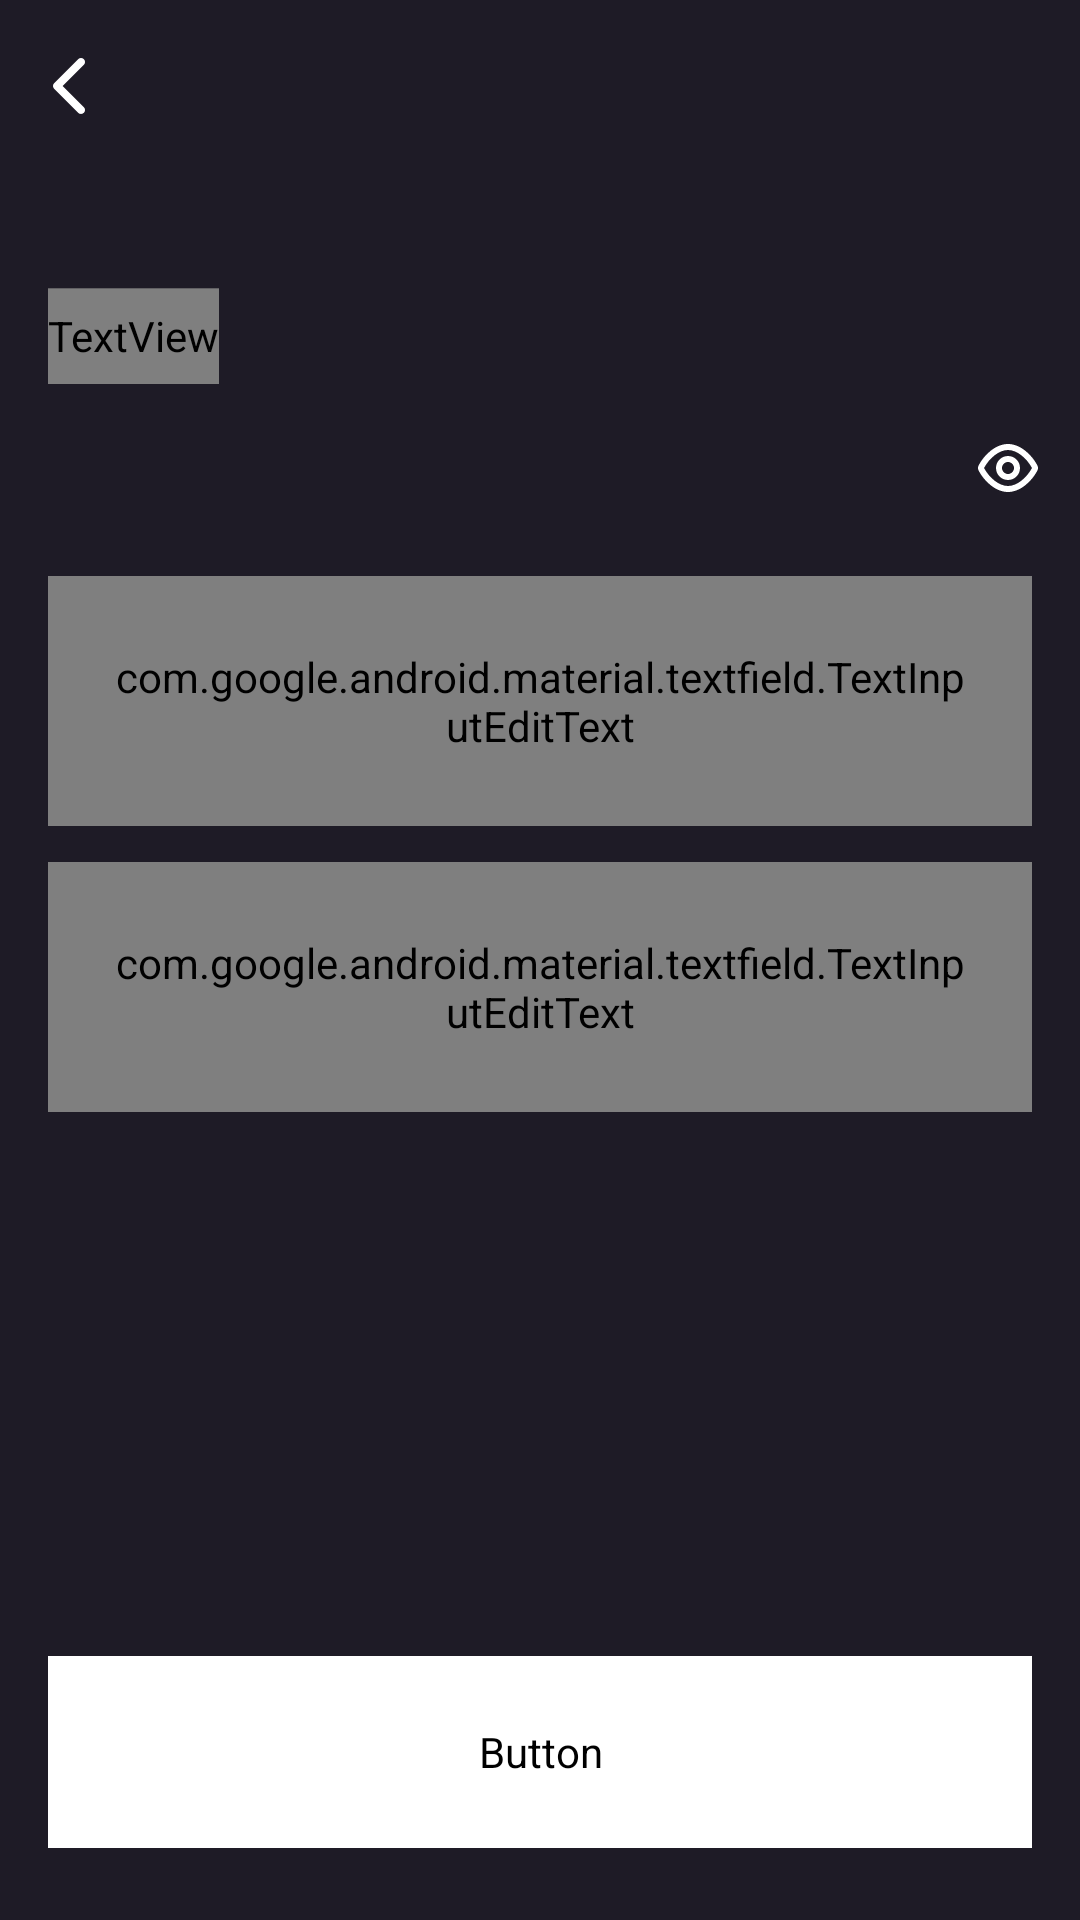

Point at icon controls on the screen. Image size 1080px x 1920px, points as (x=x, y=y).
Back arrow: (x=69, y=86)
